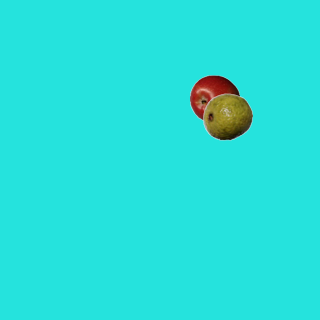Apple Braeburn: (189, 74, 239, 124)
Guava: (202, 91, 252, 141)
